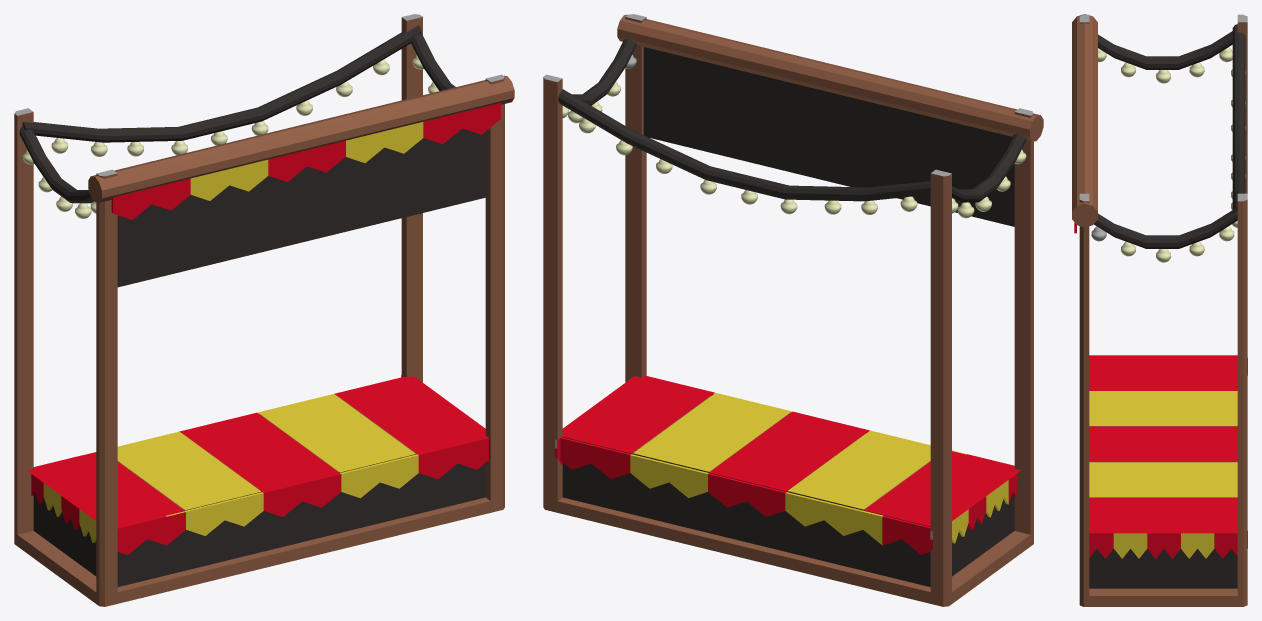
File: booth1.fbx
3 renders of one model, left to right at view 1: azimuth 30°, elevation 25°; view 2: azimuth 150°, elevation 25°; view 3: azimuth 270°, elevation 25°, orthographic. The views are drawn at different scales.
Visible parts, largest first — view 1: pPlane16; view 2: pPlane16; view 3: pPlane16.
Boxes of the visible parts, <box> form: pPlane16: <box>14,14,514,606</box>; pPlane16: <box>543,14,1043,606</box>; pPlane16: <box>1072,14,1247,606</box>.
Bounding box in the file's own units: 24.34 × 24.26 × 9.53.
